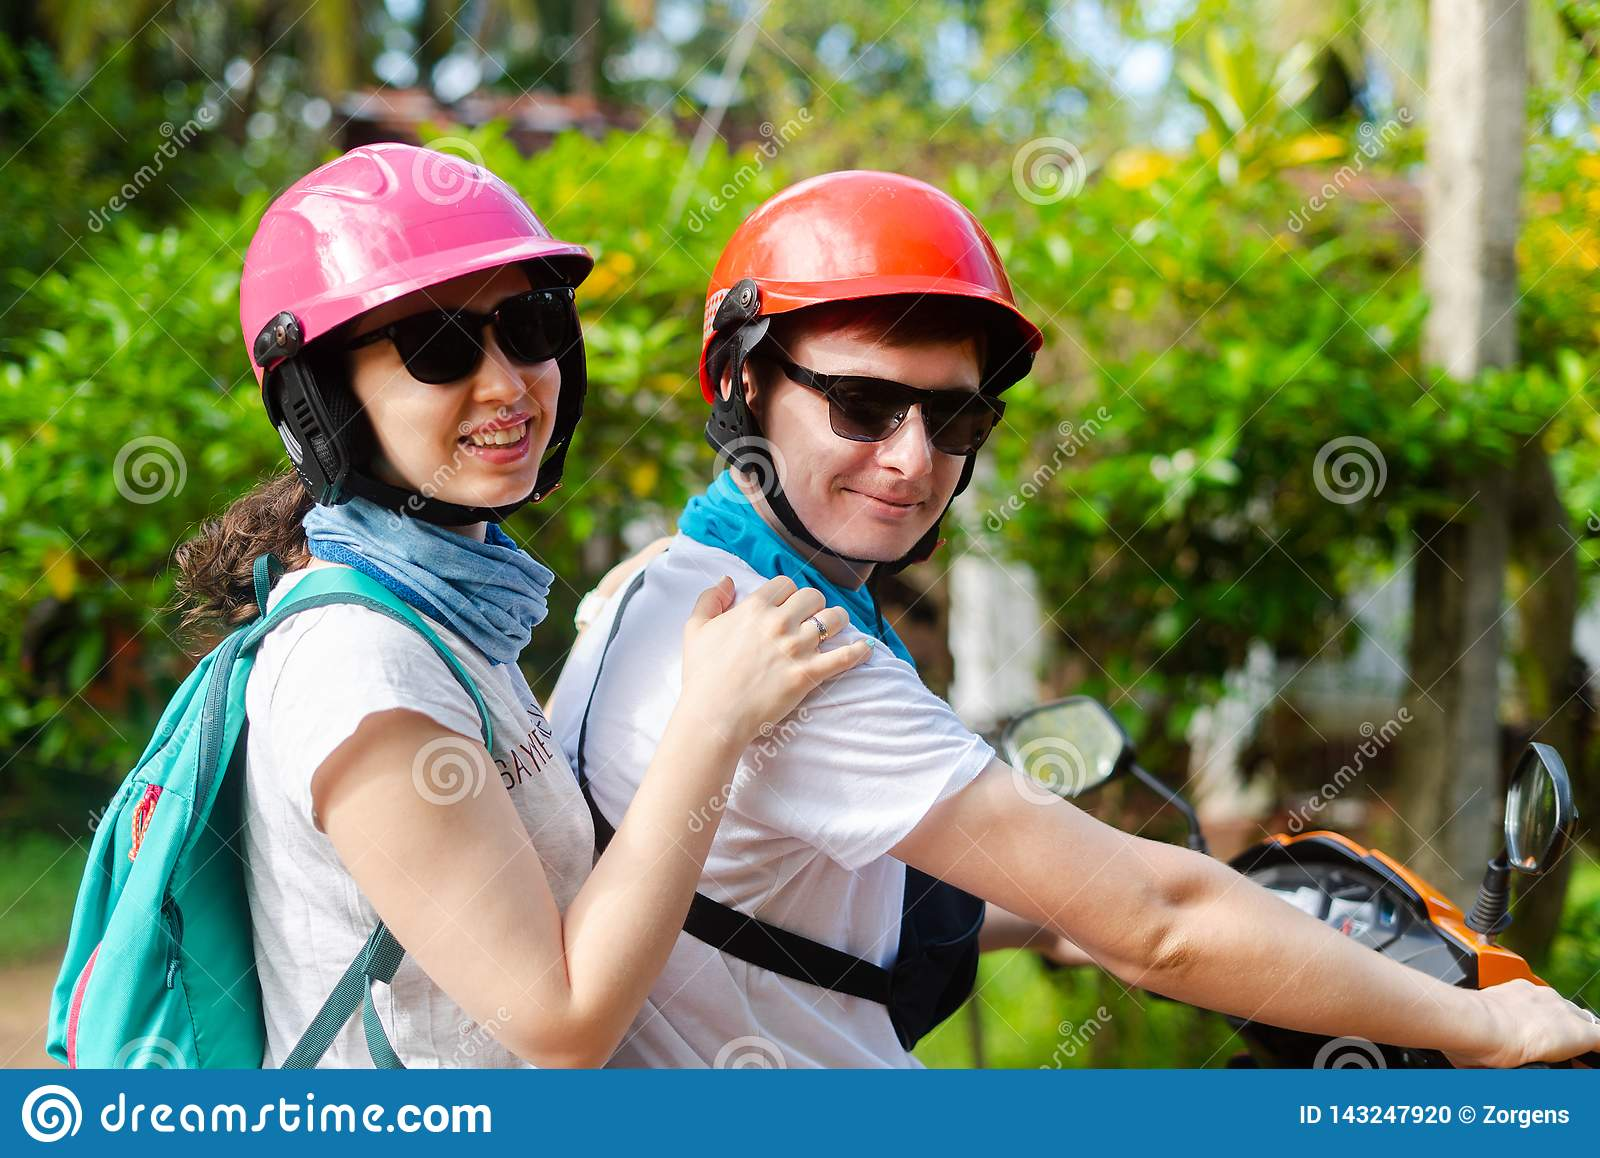helmet: (201, 153, 569, 345), (706, 179, 1025, 362)
